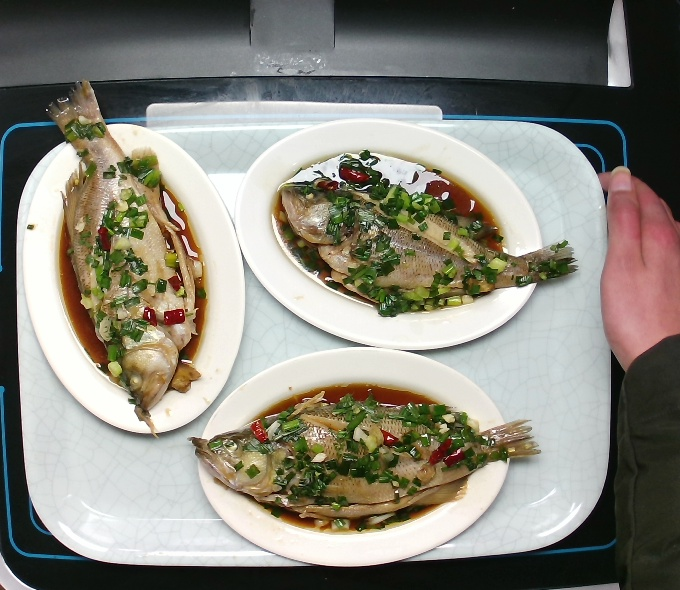wcq-LuYu: (36, 71, 210, 442), (188, 383, 549, 532), (273, 166, 582, 324)
